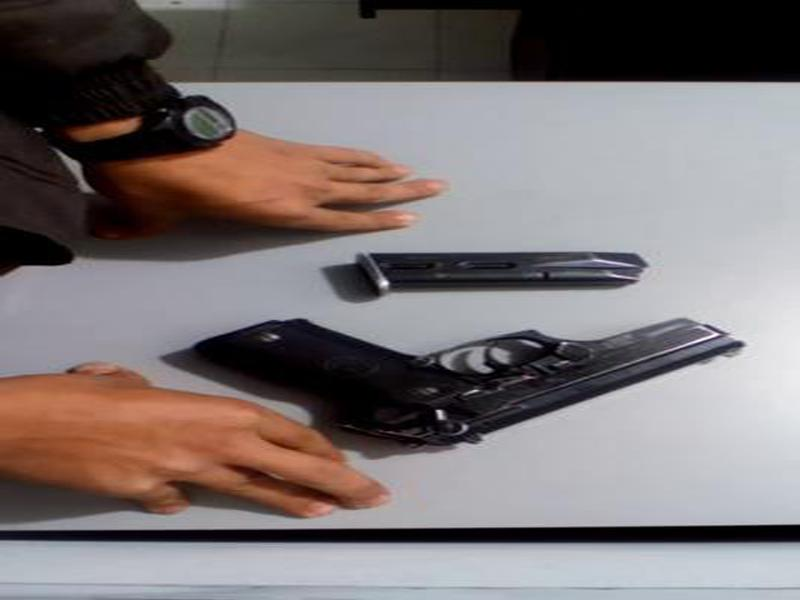Pistola: (182, 304, 759, 476)
